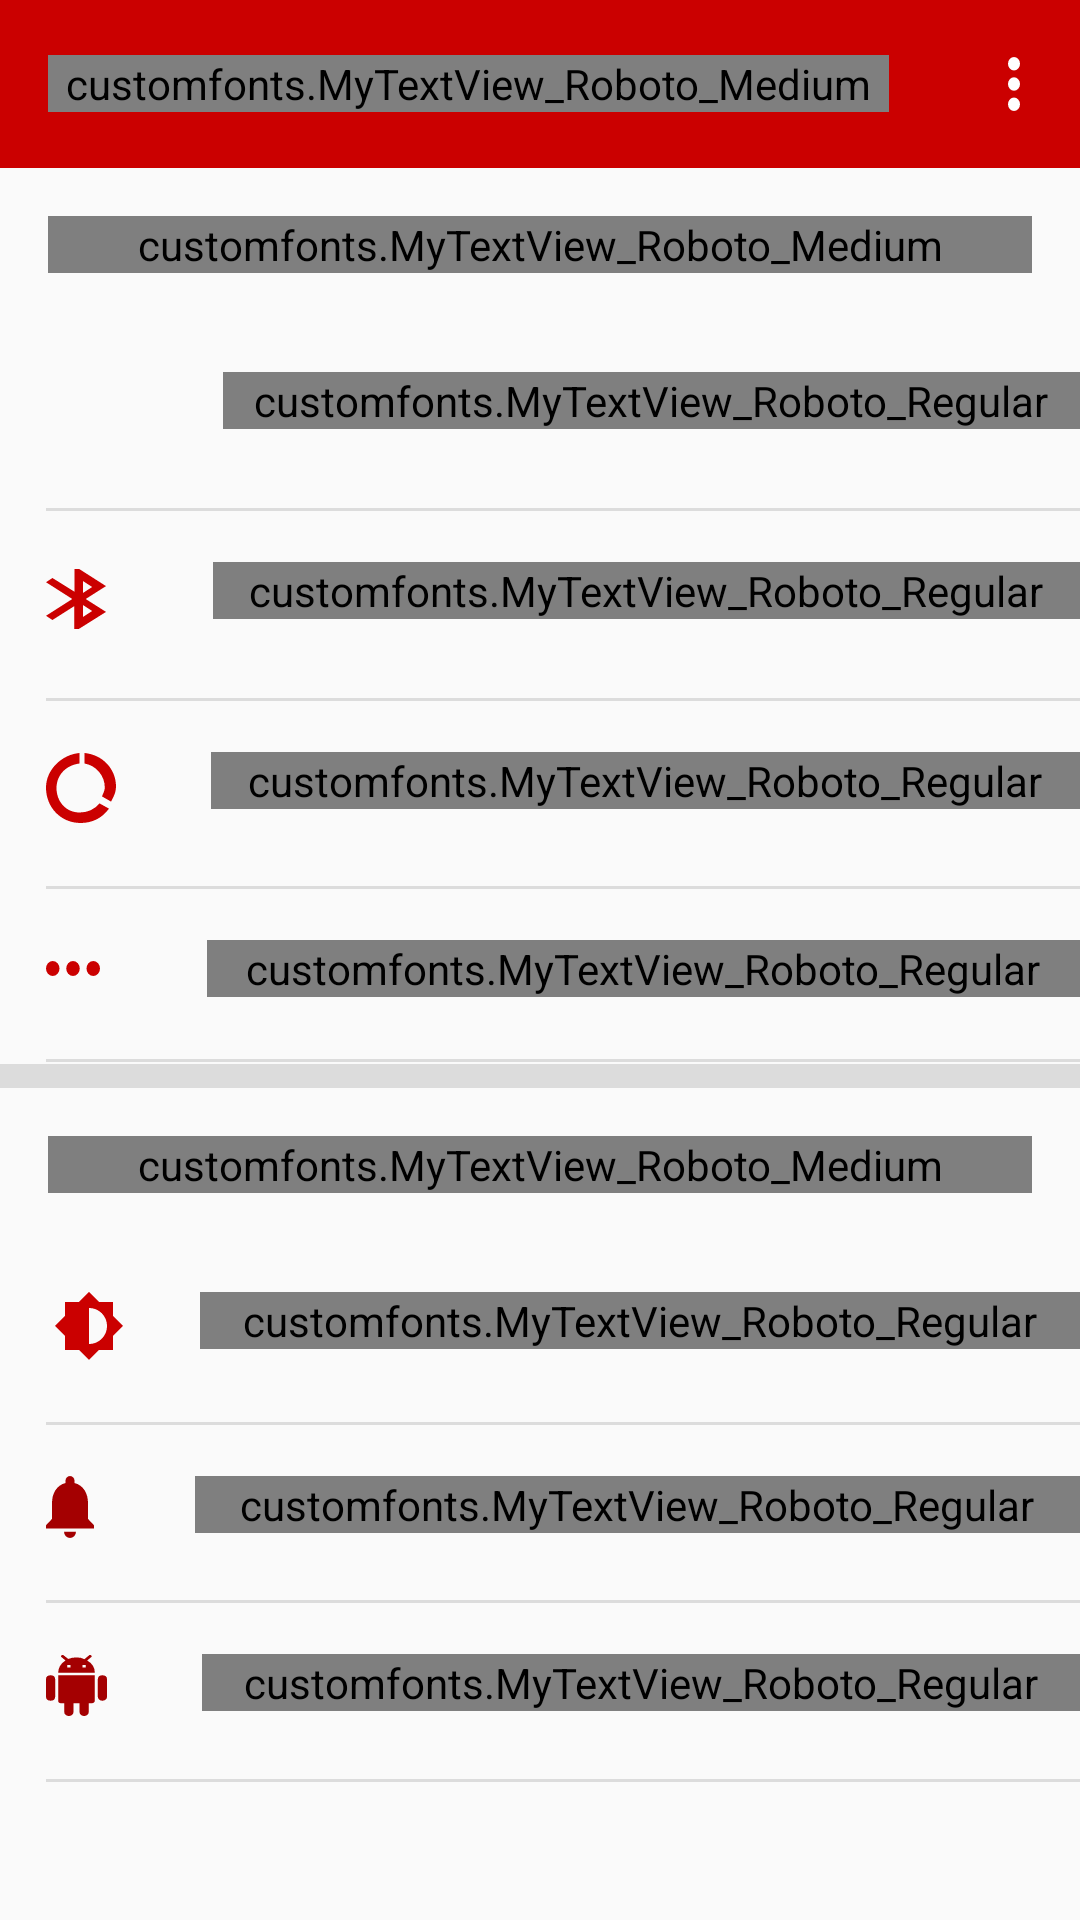

Named icons in this screenshot (1080*1920) and their bounding boxes, (x1, y1, x2, y2):
data usage: (46, 753, 116, 823)
display: (55, 1292, 123, 1360)
notifications: (46, 1476, 94, 1538)
